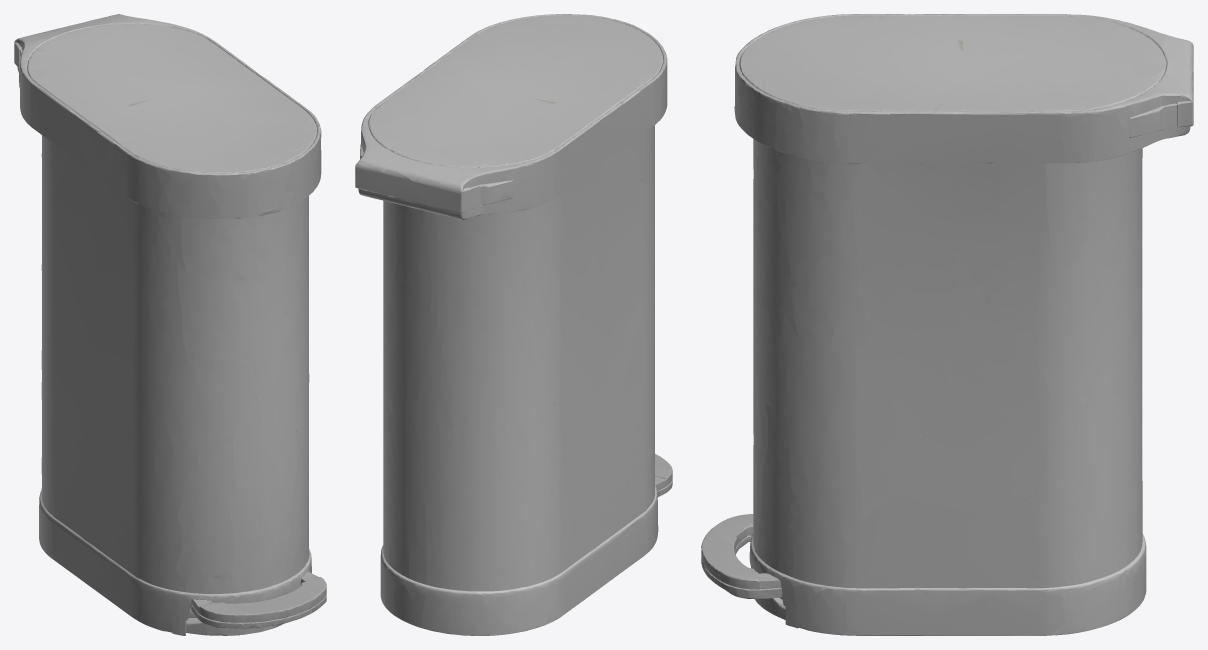
The picture shows the model from 3 angles, left to right: view 1: azimuth 30°, elevation 25°; view 2: azimuth 150°, elevation 25°; view 3: azimuth 270°, elevation 25°; orthographic projection. The views are drawn at different scales.
Size of the model in its own units: 0.7709 by 1.9 by 1.61.
Materials: 1 (1 with a texture image).
